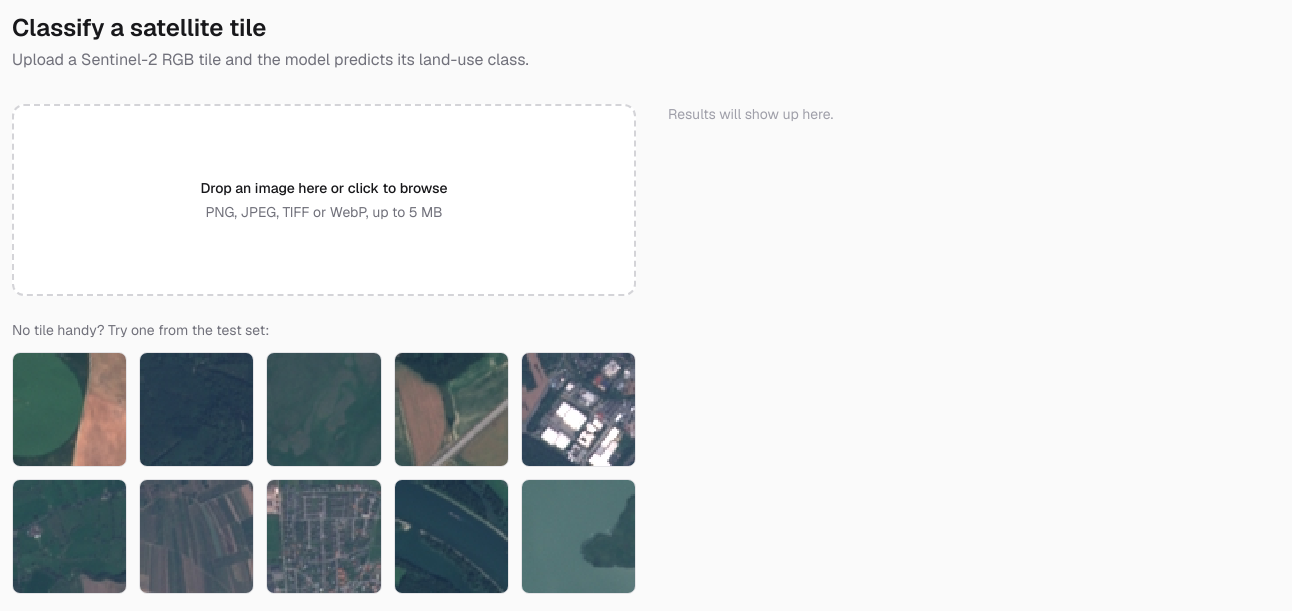
it: classifies a sample tile and shows the result
Click the button named "River": (451, 537) [394, 479, 509, 594]
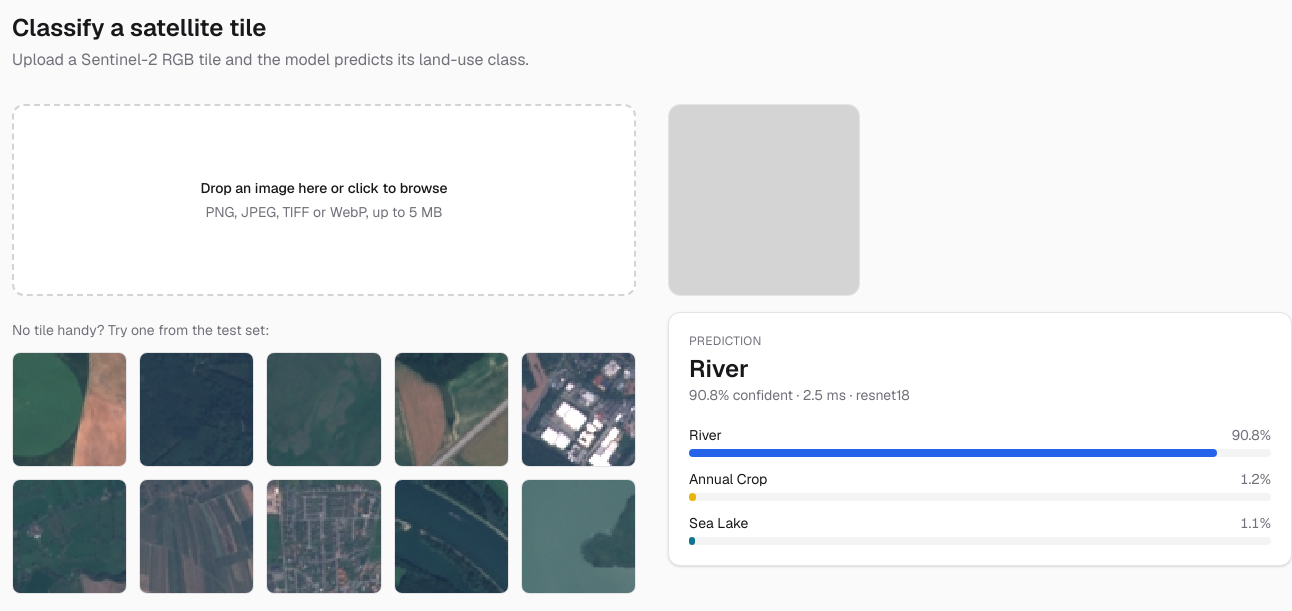
Result: the text "90.8% confident · 2.5 ms · resnet18" is shown at [689, 386, 910, 404]
